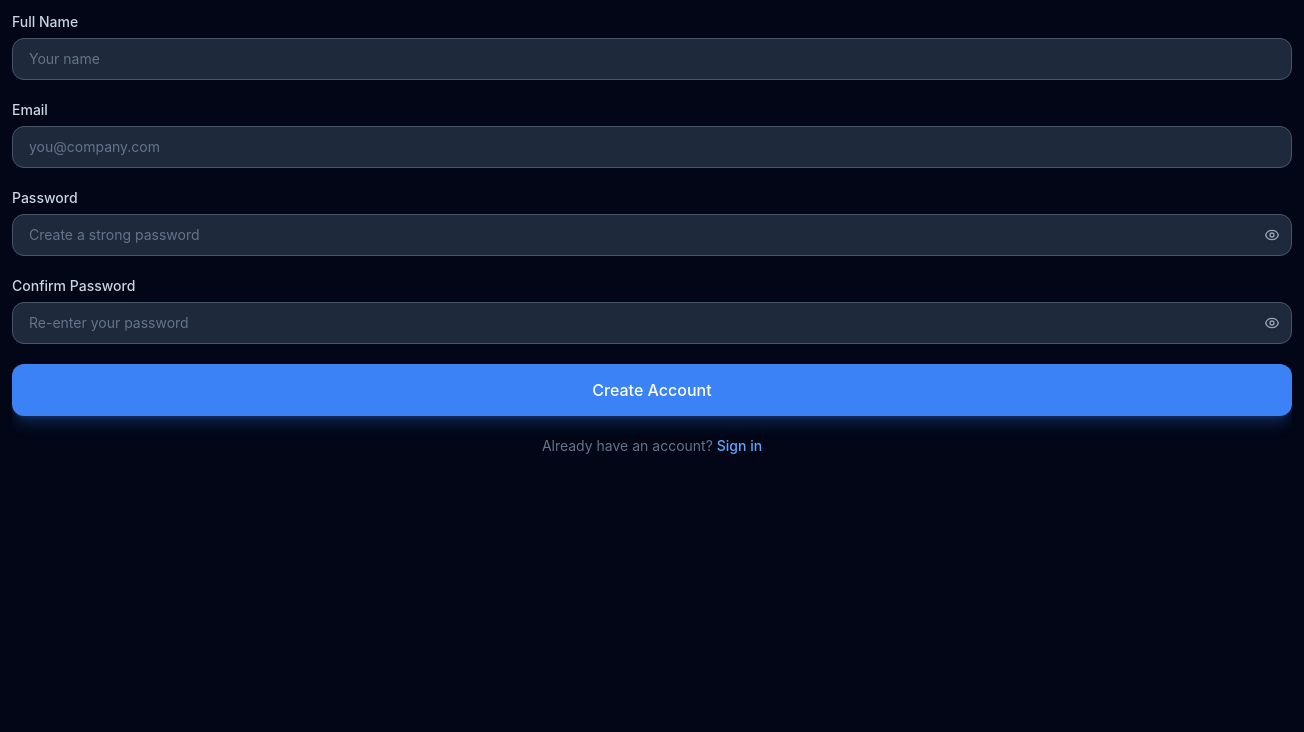
SignupForm › shows confirm password mismatch error
The image size is (1304, 732).
Step 1. Type "Alice" into the field labelled "Full Name" → (652, 59), box [12, 38, 1292, 80]
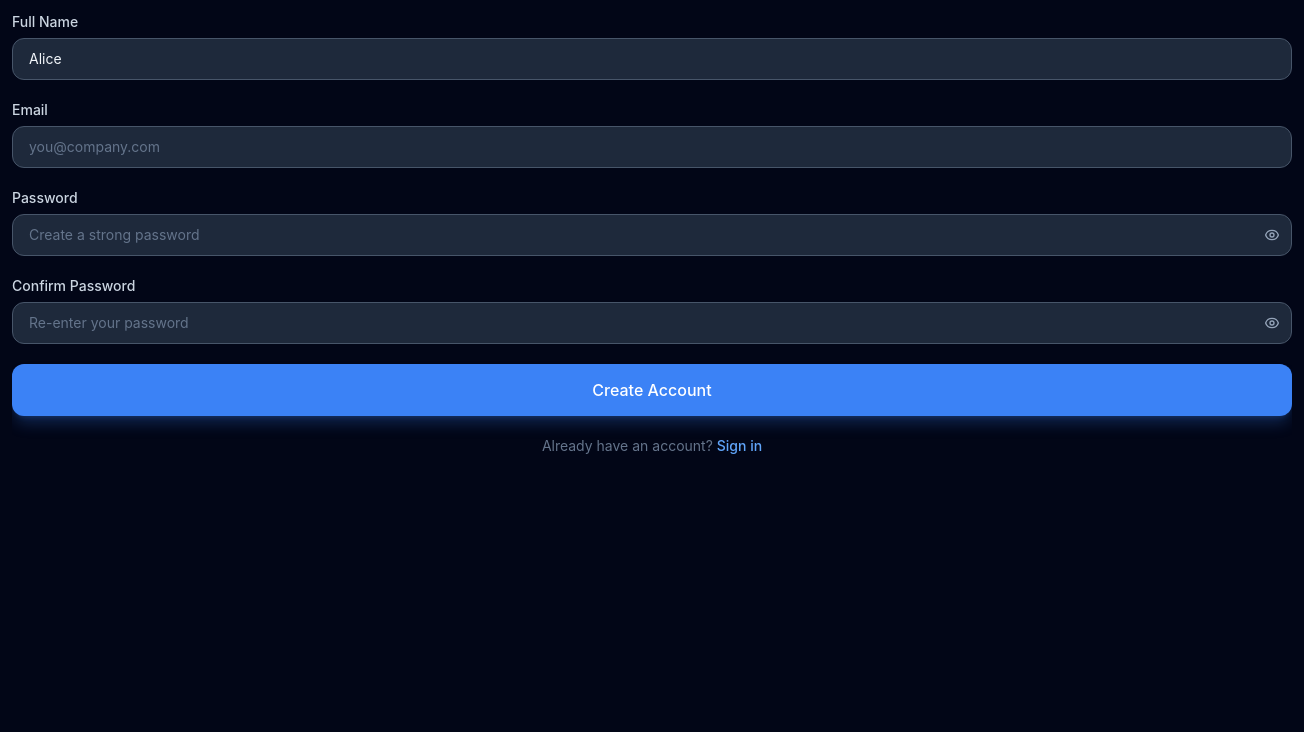
Step 2. Type "alice@test.com" into the field labelled "Email" → (652, 147), box [12, 126, 1292, 168]
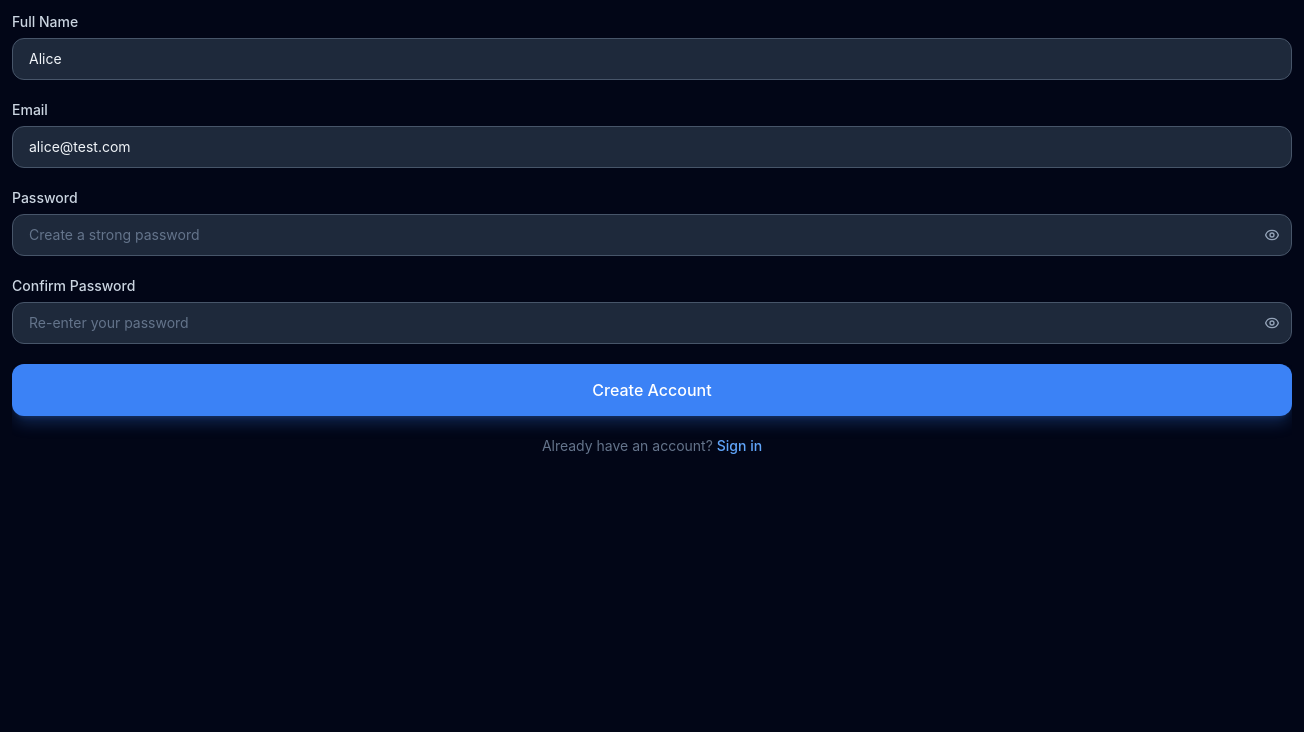
Step 3. Type "Secure1pass" into the password field labelled "Password" → (652, 235), box [12, 214, 1292, 256]
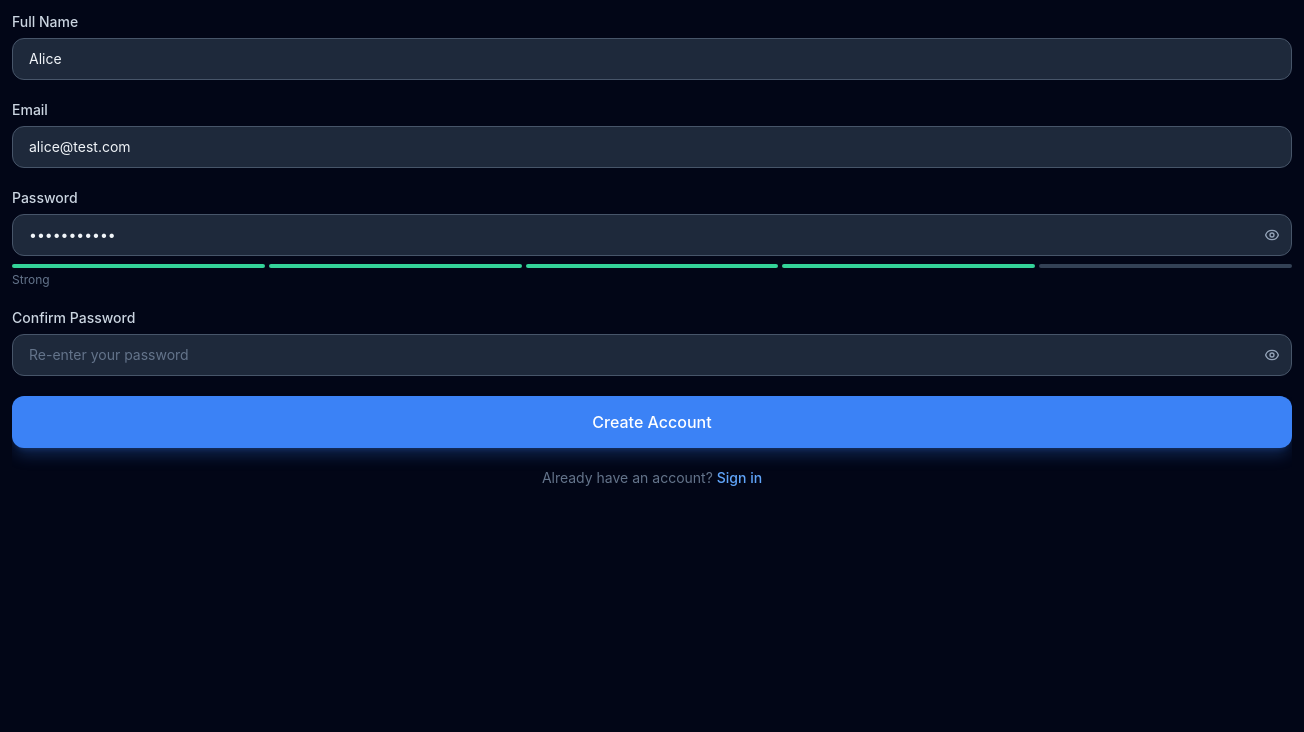
Step 4. Type "different" into the password field labelled "Confirm Password" → (652, 355), box [12, 334, 1292, 376]
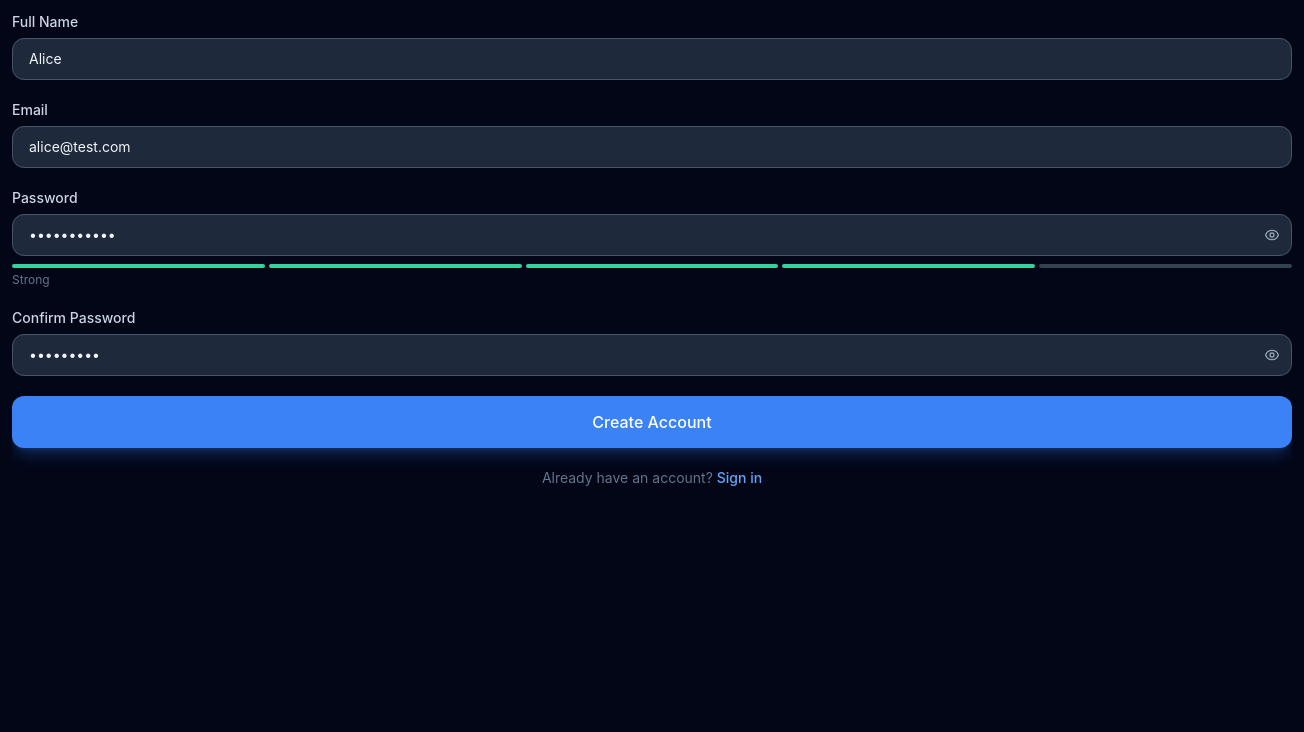
Step 5. Click the button "Create Account" → (652, 422), box [12, 396, 1292, 448]
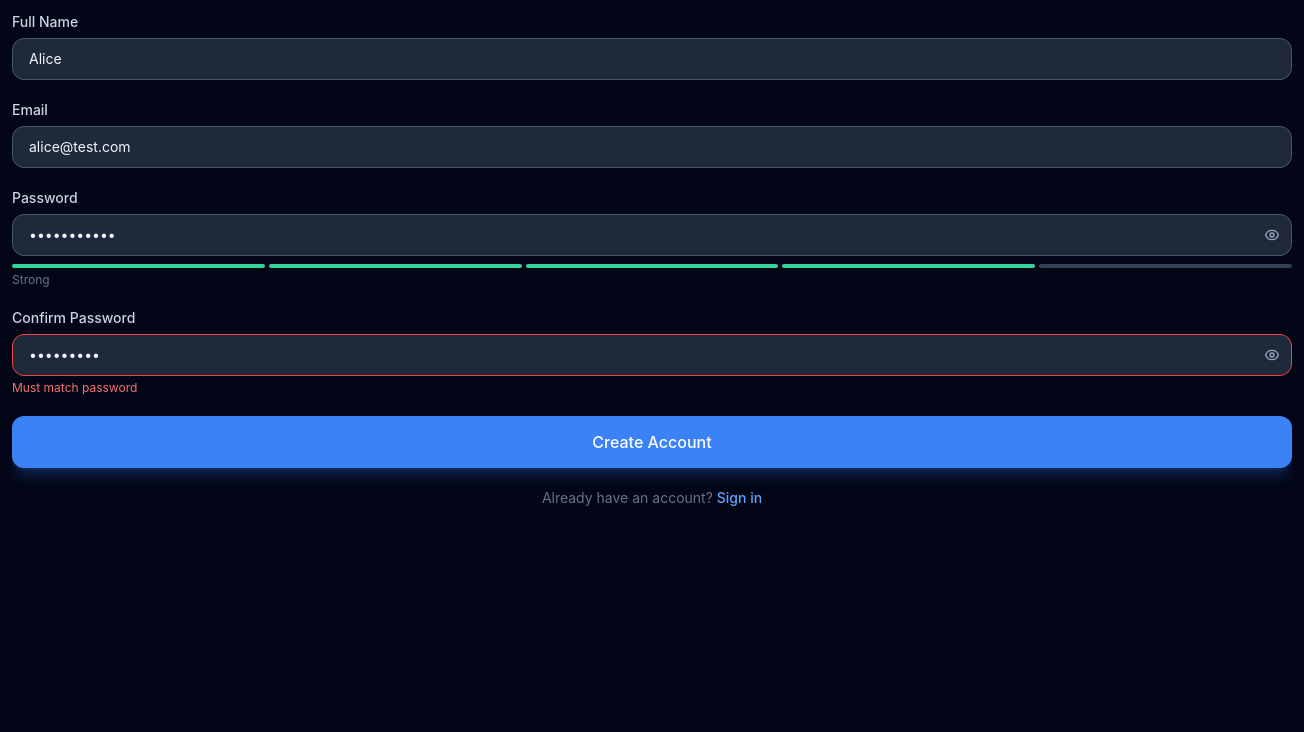
Result: the text "Must match password" is shown at [12, 380, 137, 395]
